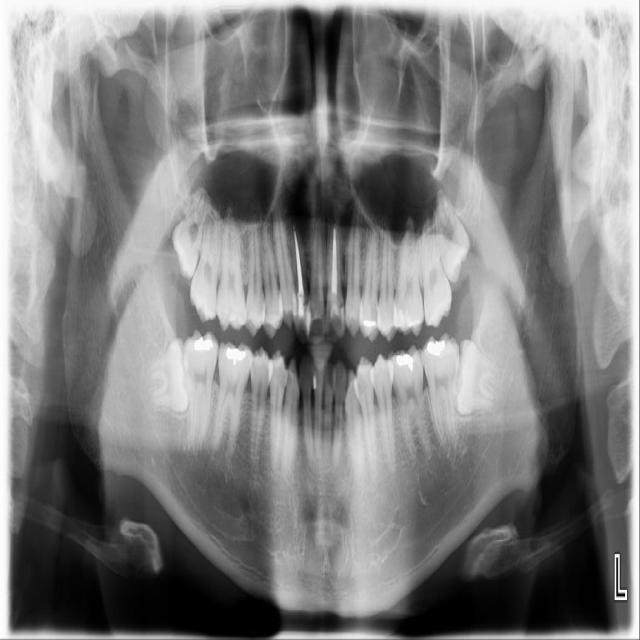3M ESPE Implant: (164, 184, 212, 280)
52: (383, 342, 431, 398), (418, 330, 463, 385), (181, 328, 220, 382), (216, 339, 254, 390), (357, 292, 383, 344)
73: (284, 218, 309, 303), (325, 222, 343, 304), (594, 594, 598, 602)
BioHorizons Implant: (420, 209, 453, 328)
BioLife Implant: (434, 185, 473, 285)
Biomet 3i Implant: (449, 338, 501, 419)
Blue Sky Bio Implant: (417, 330, 461, 449)
Caries: (187, 203, 224, 324)
Implant: (171, 328, 221, 447)
Keystone Dental Implant: (143, 336, 196, 417)
